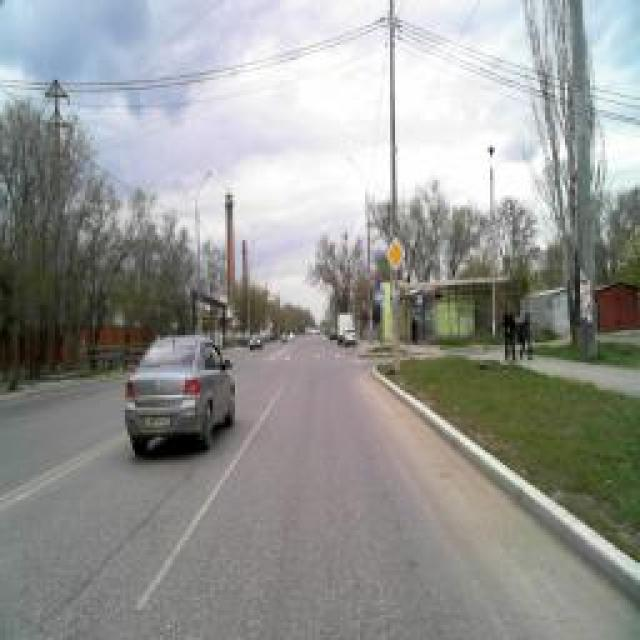sign: (384, 235, 406, 273)
